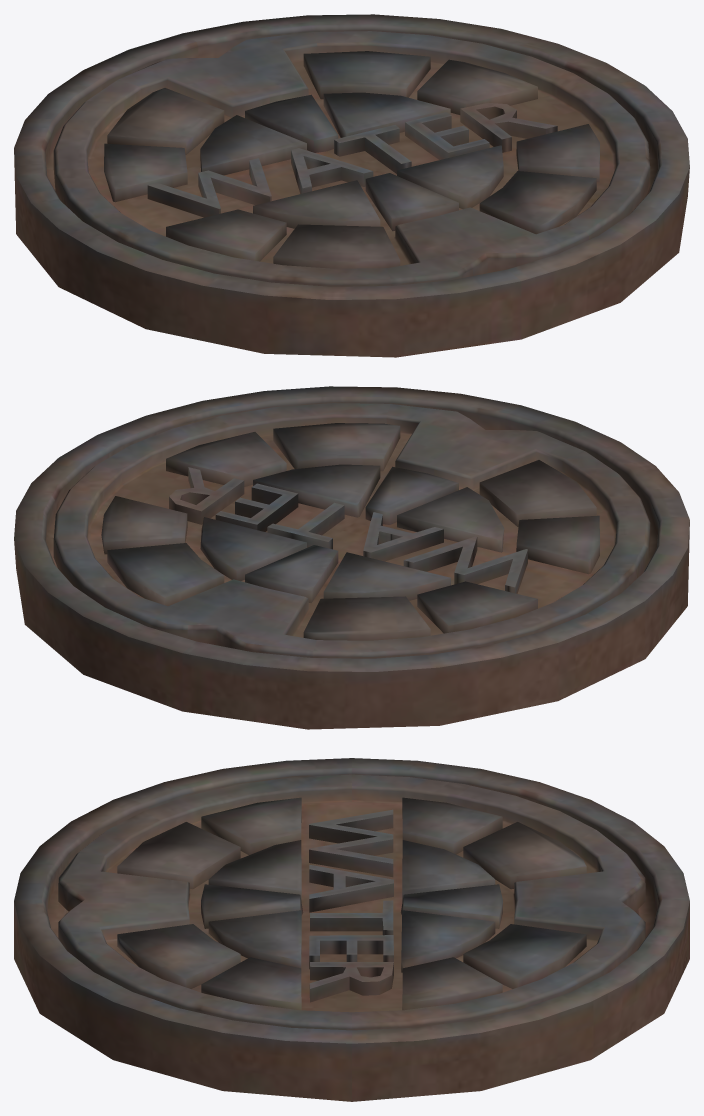
Rendered from water_manhole_cover.glb.
The picture shows the model from 3 angles, top to bottom: view 1: azimuth 30°, elevation 25°; view 2: azimuth 150°, elevation 25°; view 3: azimuth 270°, elevation 25°; orthographic projection.
Parts seen in each view (by area): view 1: water_manhole_cover, water_manhole_cover_frame; view 2: water_manhole_cover, water_manhole_cover_frame; view 3: water_manhole_cover, water_manhole_cover_frame.
Part boxes in pixels (x1=…): water_manhole_cover: x1=53, y1=31, x2=650, y2=286; water_manhole_cover_frame: x1=14, y1=14, x2=689, y2=357; water_manhole_cover: x1=53, y1=403, x2=650, y2=658; water_manhole_cover_frame: x1=14, y1=386, x2=689, y2=729; water_manhole_cover: x1=58, y1=774, x2=645, y2=1030; water_manhole_cover_frame: x1=14, y1=758, x2=689, y2=1101.
Size of the model in its own units: 0.6908 by 0.0676 by 0.6908.
Materials: 1 (1 with a texture image).
